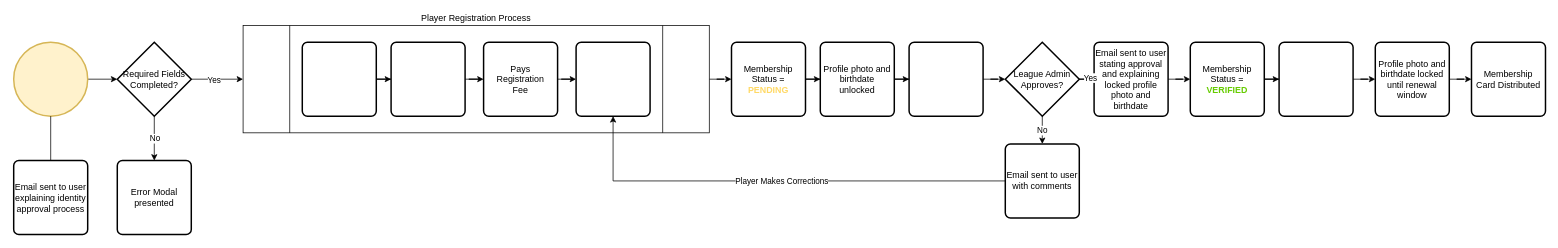
The diagram is 1558 pixels wide and 248 high, and some of its shapes have lost their labels. Here are the shapes that lost their labels. From the top down, the box of each, then its label:
(13, 41, 88, 117): Player Attempts to Register
(301, 41, 377, 117): Signs Waiver
(390, 41, 465, 117): Uploads Secondary ID
(575, 41, 650, 117): Updates Profile
(908, 41, 983, 117): Profile sent to league admin for approval
(1278, 41, 1353, 117): Profile Status = VERIFIED
